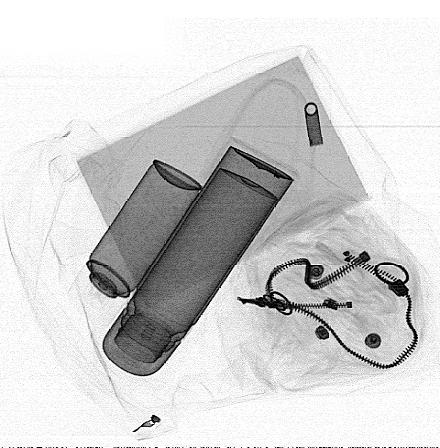Sprayer: (68, 160, 203, 332)
